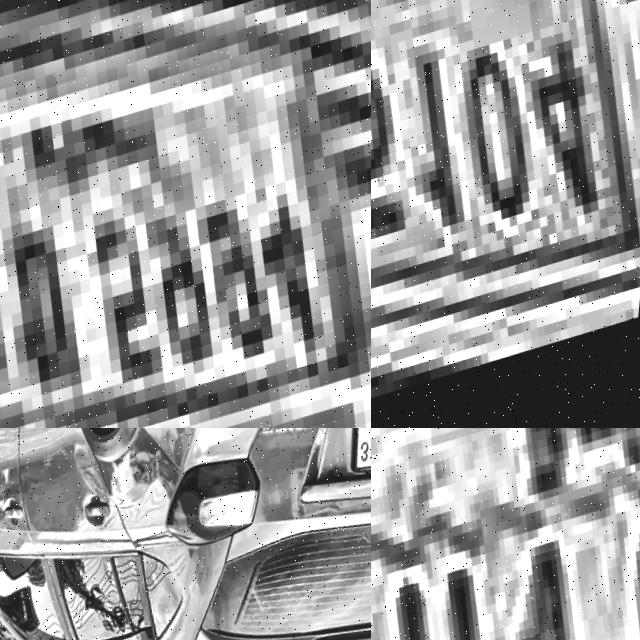license-plate: (0, 0, 371, 428), (371, 0, 640, 428), (371, 428, 640, 640)
